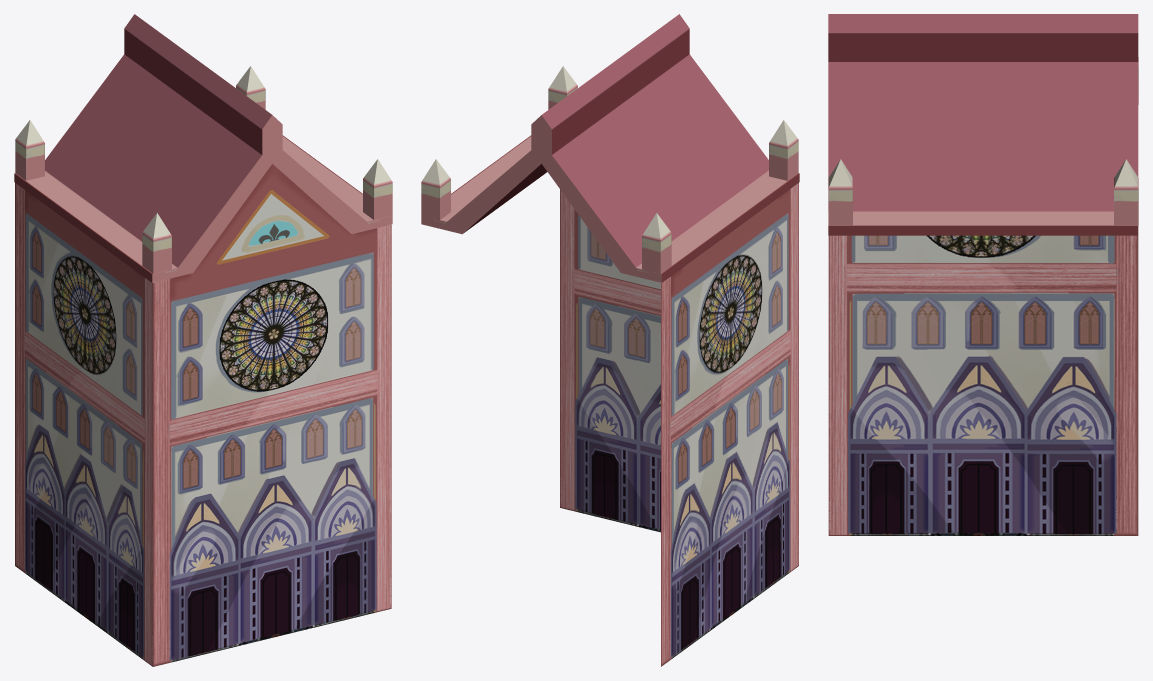
File: model_build5.fbx
The picture shows the model from 3 angles, left to right: view 1: azimuth 30°, elevation 25°; view 2: azimuth 150°, elevation 25°; view 3: azimuth 270°, elevation 25°; orthographic projection. The views are drawn at different scales.
Parts seen in each view (by area): view 1: model_build5; view 2: model_build5; view 3: model_build5.
Boxes of the visible parts, bbox=[...] form: model_build5: bbox=[14, 14, 392, 666]; model_build5: bbox=[421, 14, 799, 666]; model_build5: bbox=[828, 14, 1138, 535].
Bounding box in the file's own units: 229 × 476 × 228.
Materials: 1 (1 with a texture image).
